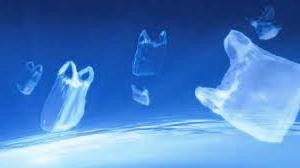Trash: (189, 24, 296, 151), (30, 56, 108, 142), (130, 14, 175, 86)
